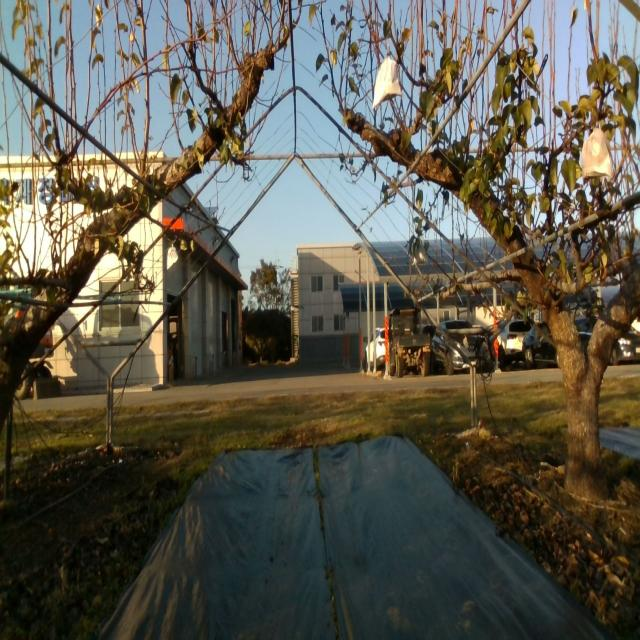pearbags: (372, 42, 403, 112), (581, 126, 614, 186), (412, 244, 428, 267), (166, 243, 178, 270)
